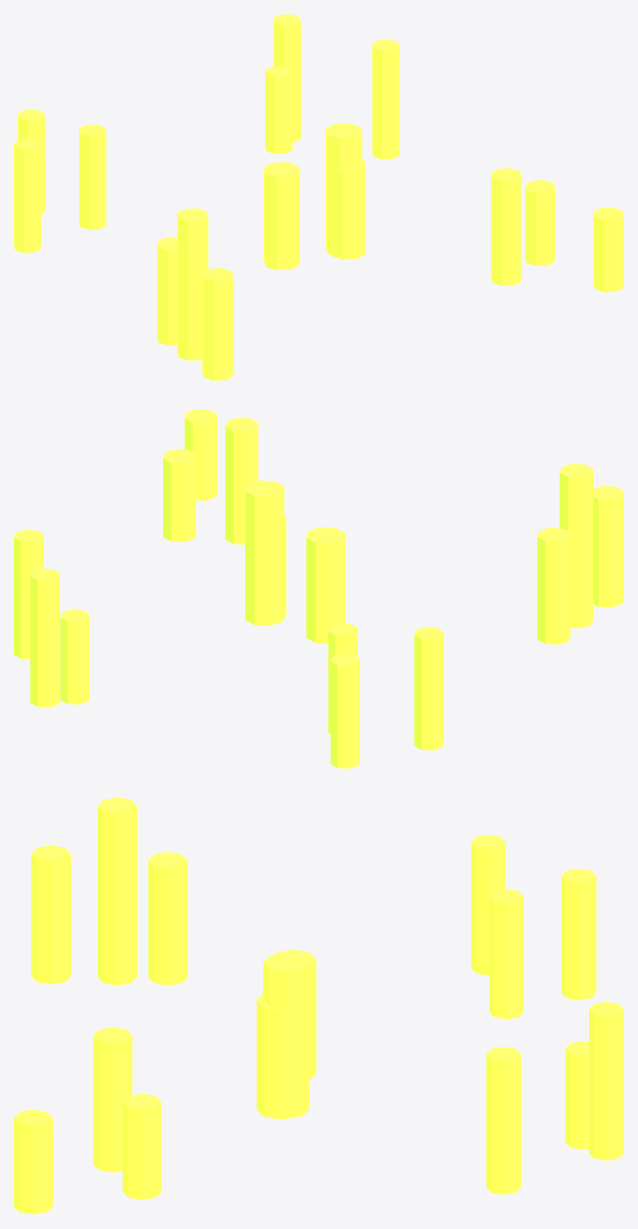
The model's file is uranium.glb.
3 renders of one model, top to bottom at view 1: azimuth 30°, elevation 25°; view 2: azimuth 150°, elevation 25°; view 3: azimuth 270°, elevation 25°, orthographic. The views are drawn at different scales.
Parts seen in each view (by area): view 1: cluster_3__M_E_Acid, cluster_2__M_E_Acid, cluster_4__M_E_Acid, cluster_1__M_E_Acid, cluster_0__M_E_Acid; view 2: cluster_3__M_E_Acid, cluster_2__M_E_Acid, cluster_1__M_E_Acid, cluster_4__M_E_Acid, cluster_0__M_E_Acid; view 3: cluster_3__M_E_Acid, cluster_1__M_E_Acid, cluster_4__M_E_Acid, cluster_0__M_E_Acid, cluster_2__M_E_Acid.
Part boxes in pixels (x1,y1,x2,y2): cluster_3__M_E_Acid: [157, 208, 233, 380]; cluster_2__M_E_Acid: [263, 123, 365, 270]; cluster_4__M_E_Acid: [491, 168, 623, 292]; cluster_1__M_E_Acid: [265, 14, 399, 159]; cluster_0__M_E_Acid: [14, 109, 106, 252]; cluster_3__M_E_Acid: [537, 464, 623, 644]; cluster_2__M_E_Acid: [245, 480, 345, 643]; cluster_1__M_E_Acid: [14, 529, 89, 707]; cluster_4__M_E_Acid: [163, 409, 258, 544]; cluster_0__M_E_Acid: [328, 623, 443, 768]; cluster_3__M_E_Acid: [31, 797, 187, 985]; cluster_1__M_E_Acid: [486, 1001, 623, 1194]; cluster_4__M_E_Acid: [14, 1027, 161, 1214]; cluster_0__M_E_Acid: [471, 834, 596, 1019]; cluster_2__M_E_Acid: [256, 949, 316, 1119].
Bounding box in the file's own units: 0.7586 × 0.2393 × 0.7719.
